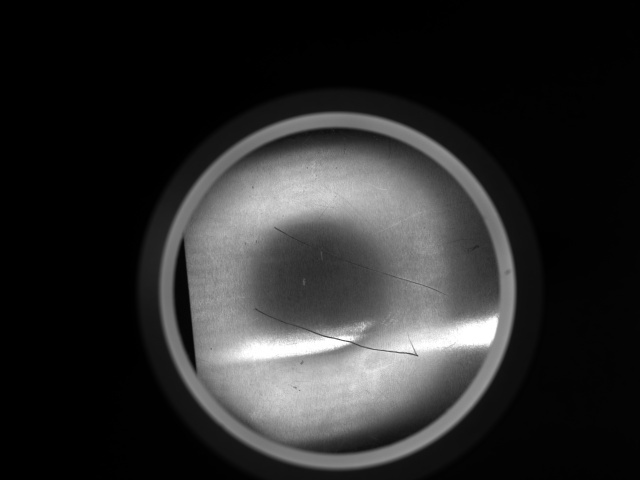ca_shang: (273, 224, 454, 299), (249, 301, 421, 358)
